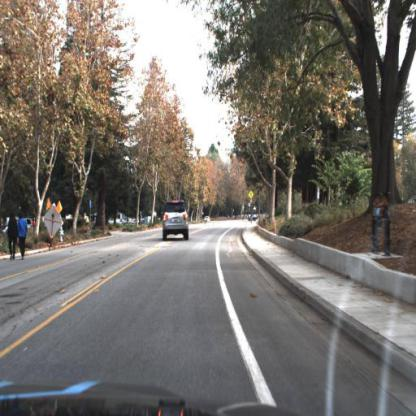car: (163, 199, 188, 243)
pedestrian: (7, 213, 19, 264), (19, 211, 29, 261)
